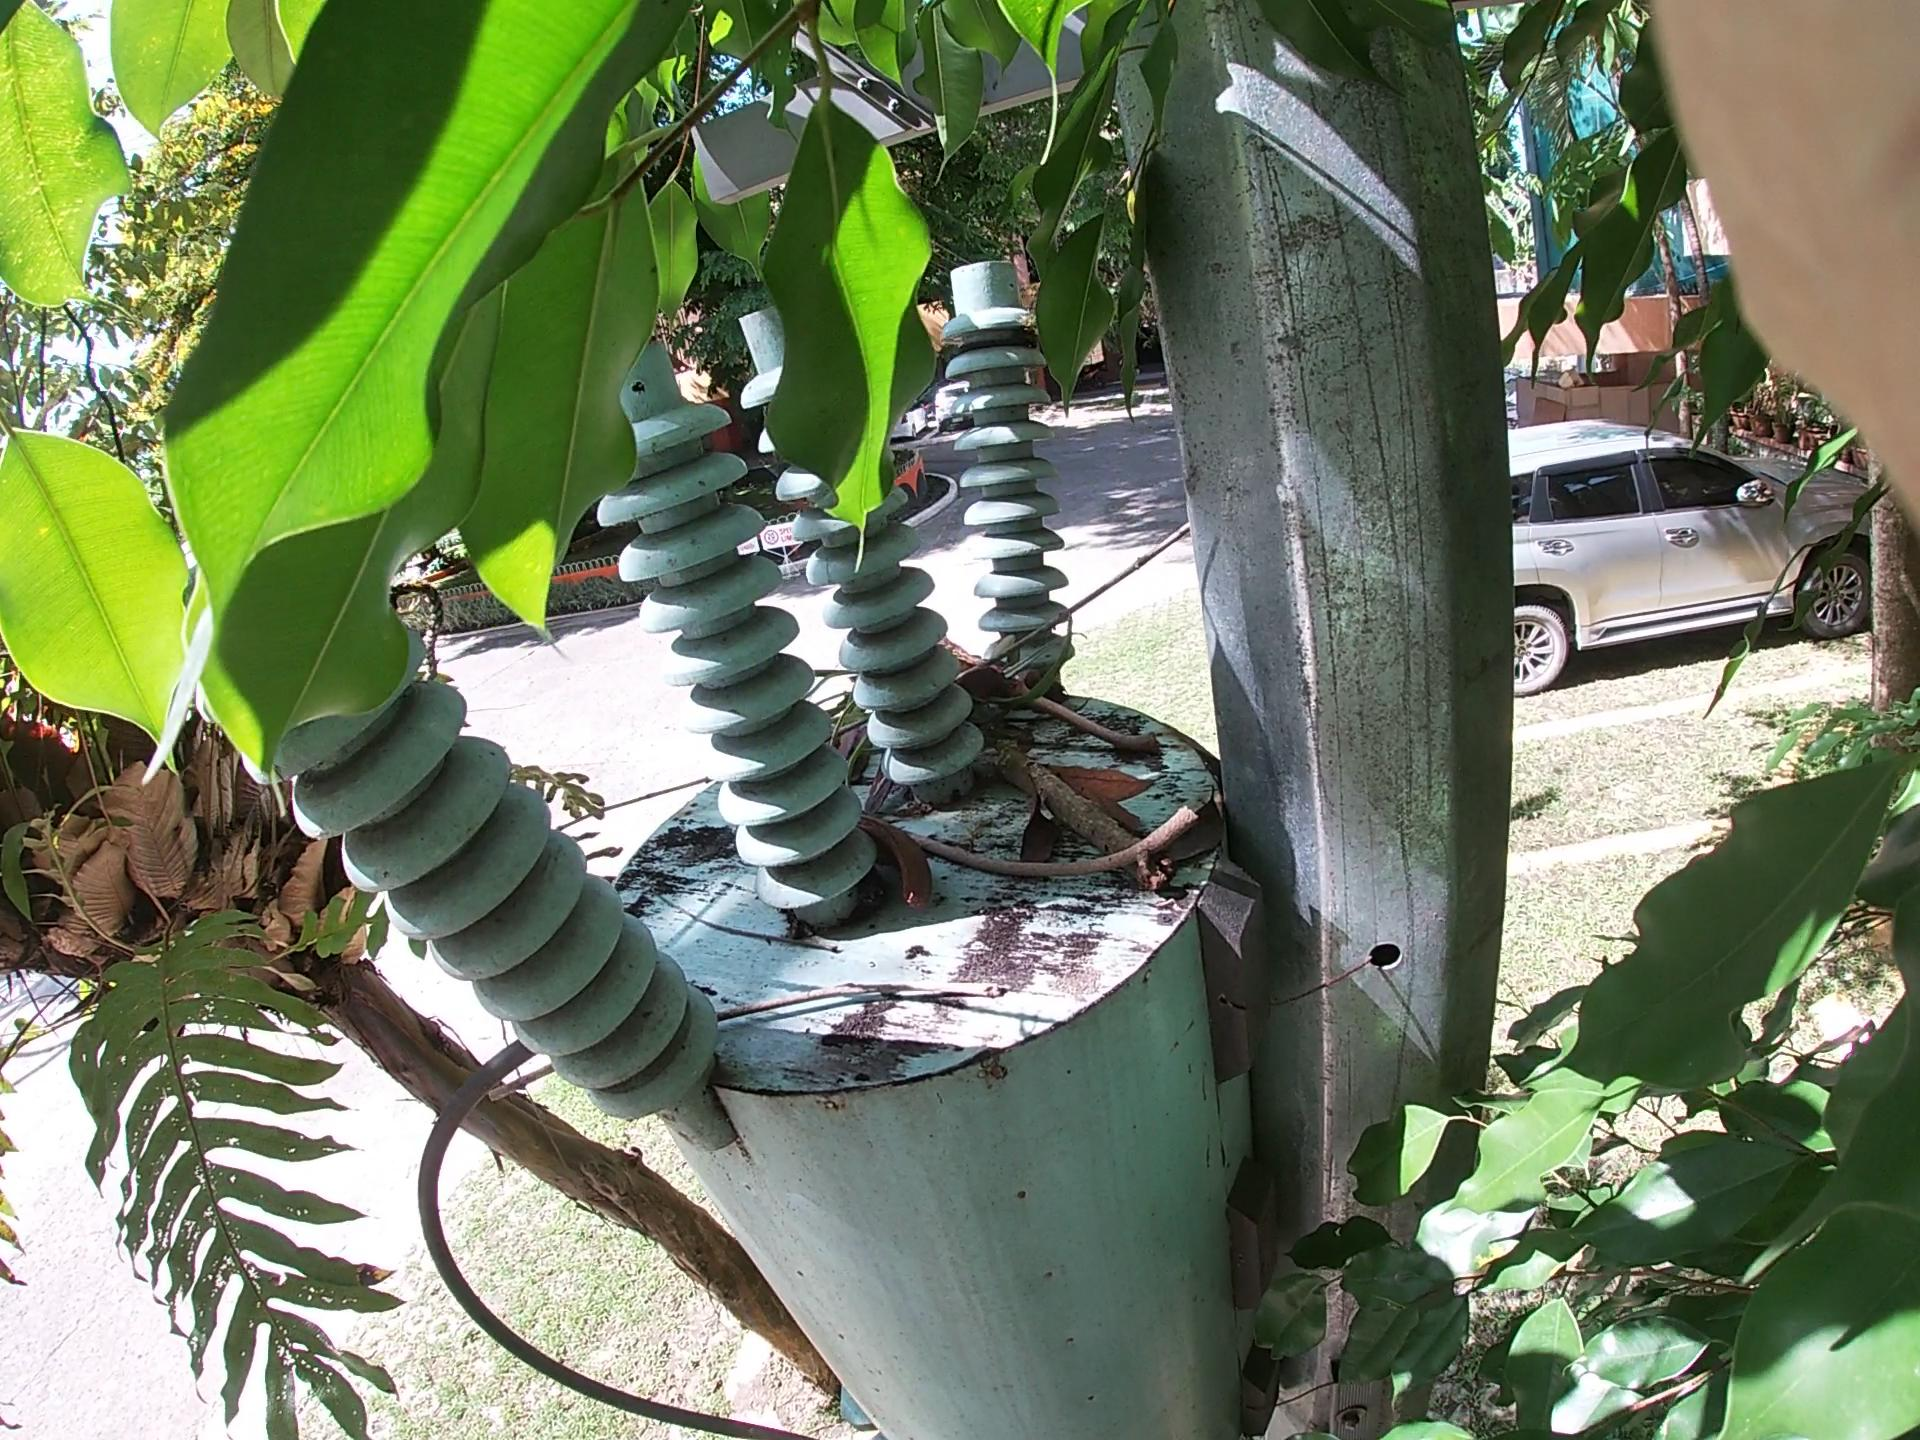branch with leaves: (974, 629, 1232, 971)
leaf: (1020, 744, 1184, 923)
tree branch: (853, 417, 1324, 809), (466, 948, 1043, 1160), (965, 656, 1197, 812), (921, 817, 1234, 929)
